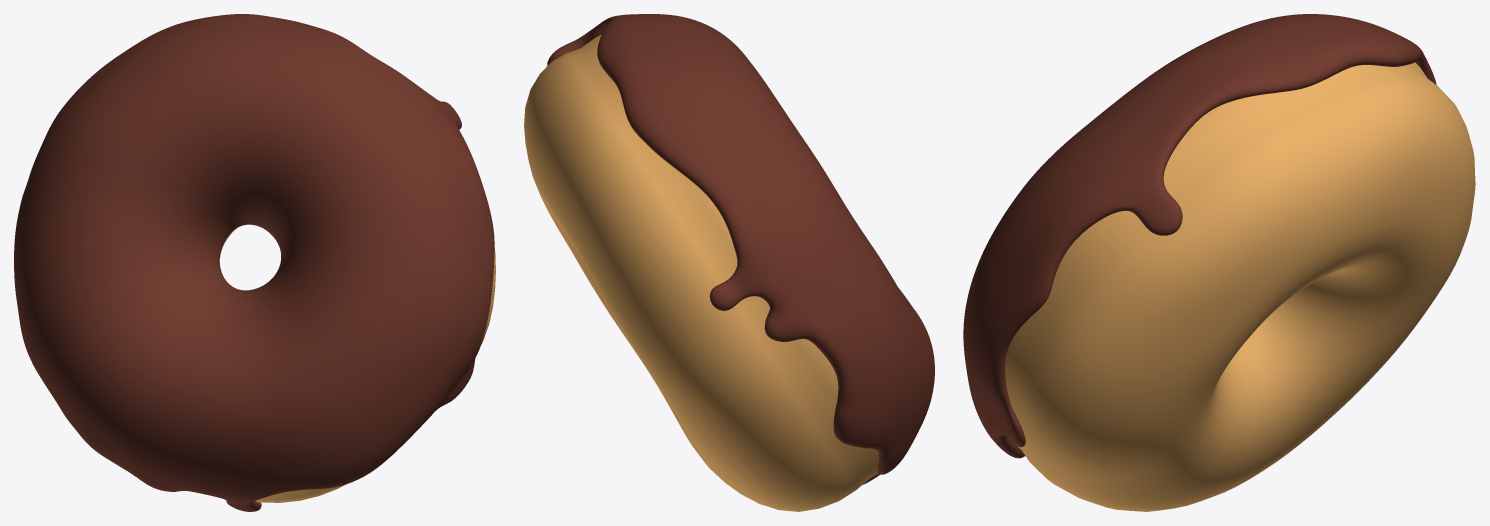
Rendered from donut.fbx.
3 renders of one model, left to right at view 1: azimuth 30°, elevation 25°; view 2: azimuth 150°, elevation 25°; view 3: azimuth 270°, elevation 25°, orthographic. The views are drawn at different scales.
Visible parts, largest first — view 1: Icing, Donut; view 2: Donut, Icing; view 3: Donut, Icing.
Boxes of the visible parts, x1,y1,x2,y2 form: Icing: (14,14,494,511); Donut: (219,228,495,502); Donut: (524,34,878,511); Icing: (547,14,934,484); Donut: (1005,62,1475,511); Icing: (963,14,1436,458).
Bounding box in the file's own units: 8.85 × 9.44 × 8.83.
